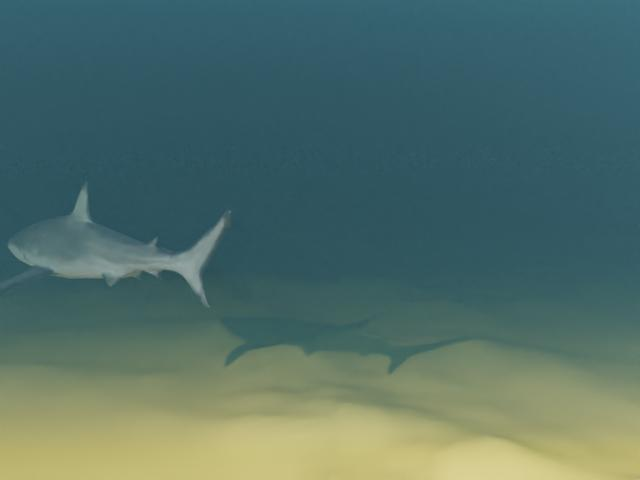Carribean Shark.001: (0, 181, 231, 308)
